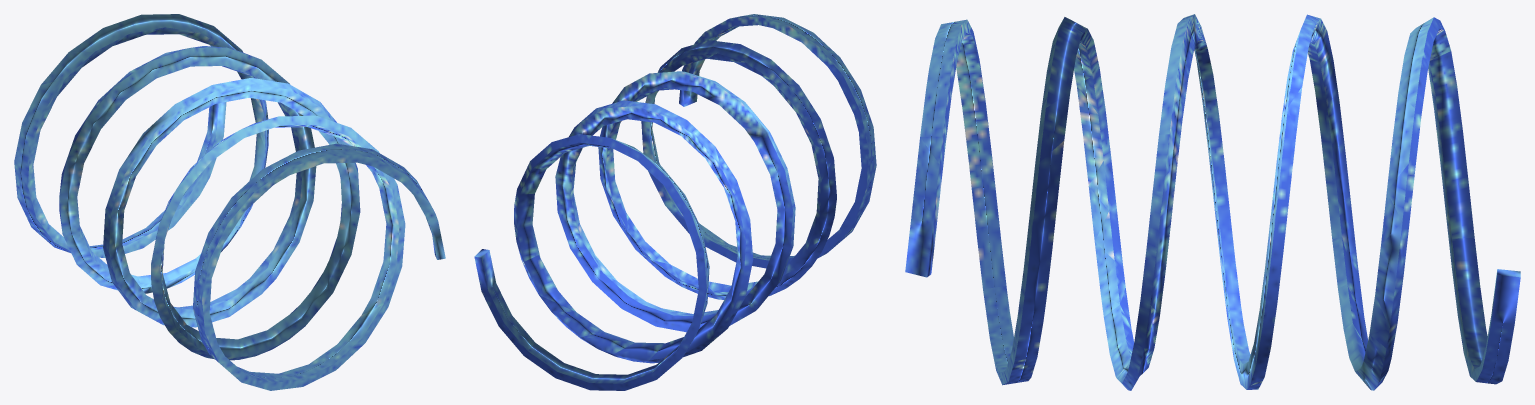
The model's file is GravityCoil.obj.
3 renders of one model, left to right at view 1: azimuth 30°, elevation 25°; view 2: azimuth 150°, elevation 25°; view 3: azimuth 270°, elevation 25°, orthographic. The views are drawn at different scales.
Visible parts, largest first — view 1: Gravity Coil; view 2: Gravity Coil; view 3: Gravity Coil.
Part boxes in pixels (box(x1,y1,x2,y2)): Gravity Coil: box(14, 14, 445, 390); Gravity Coil: box(474, 14, 876, 390); Gravity Coil: box(905, 14, 1520, 390).
Size of the model in its own units: 1.4 by 1.49 by 2.4.
Materials: 1 (1 with a texture image).
